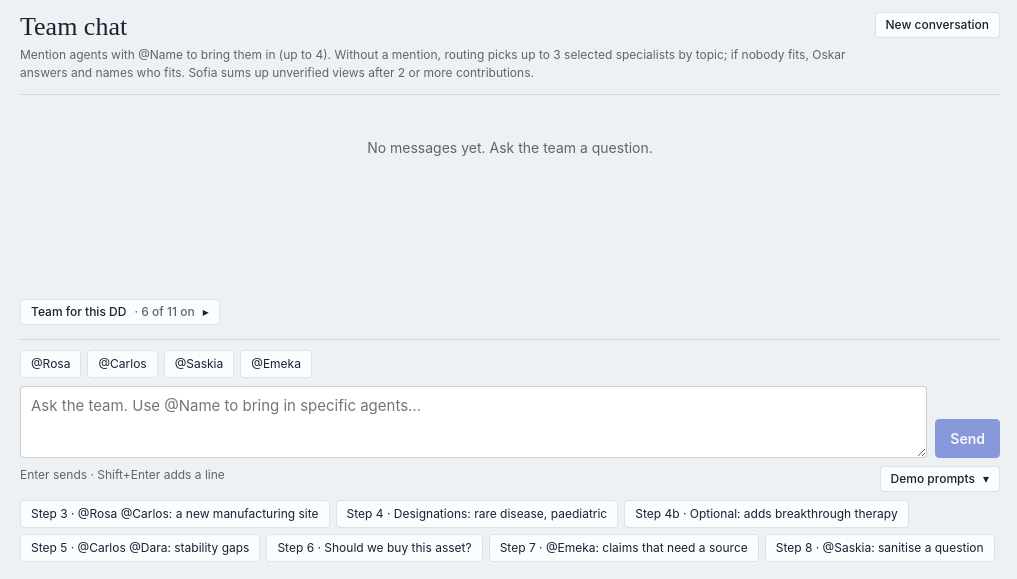
ChatRoom: the live demo’s prompts › a demo prompt puts its exact text in the box and does not send it
Check: the text box named "Message the team" is enabled, box 20,386 -> 927,458
Click the button "Step 4b · Optional: adds breakthrough therapy": coordinates (766, 514) 624,500 -> 909,528
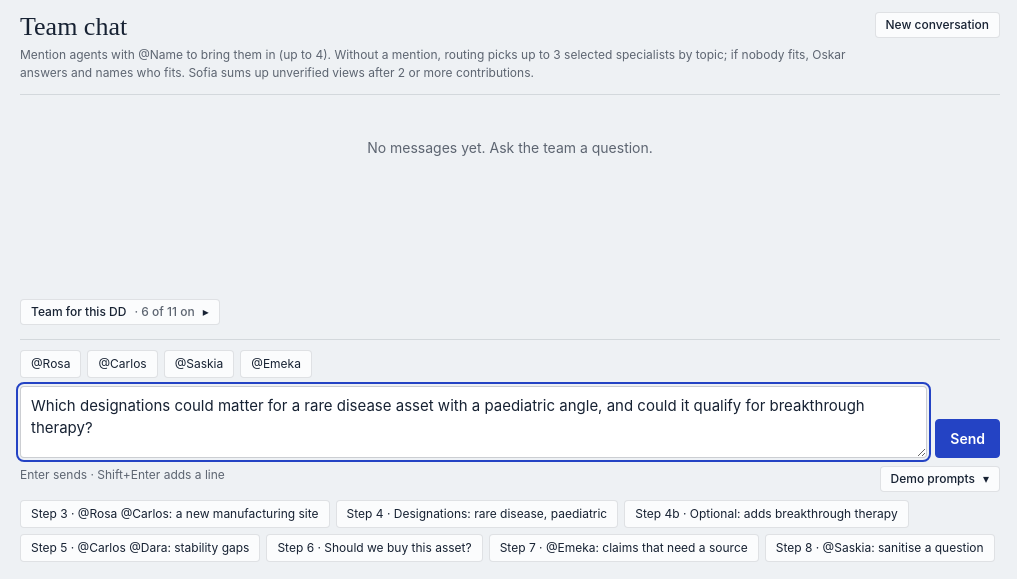
Check: the text box named "Message the team" holds "Which designations could matter for a rare disease asset with a paediatric angle, and could it qualify for breakthrough therapy?", box 20,386 -> 927,458
